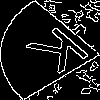K: (24, 25, 100, 82)
